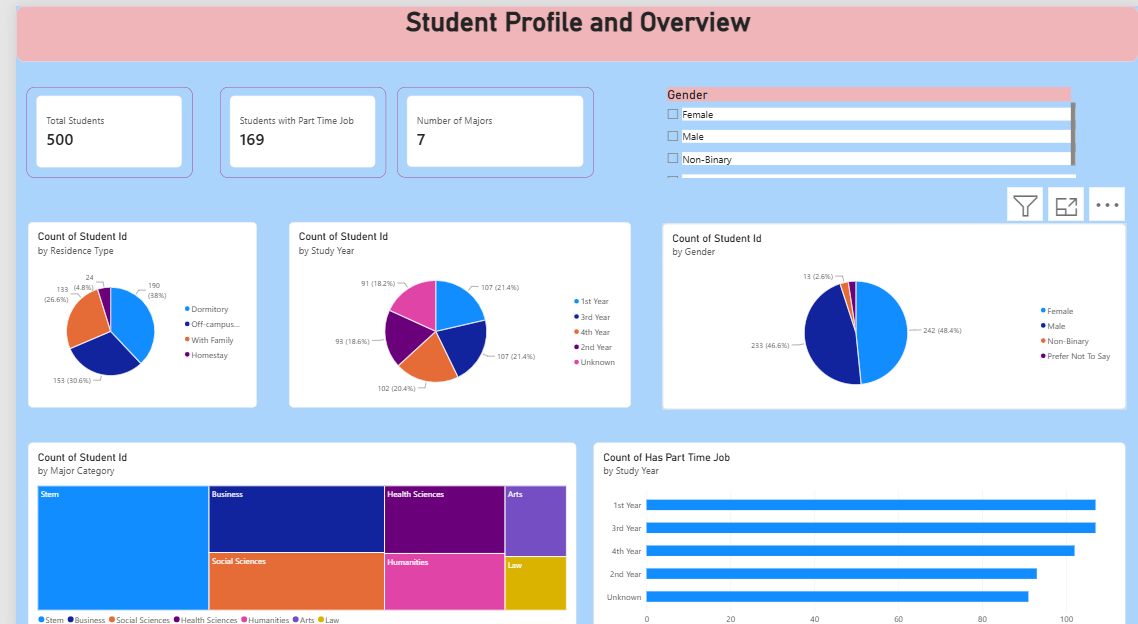

This screenshot's page, from the dashboard's own definition file:
{"tool":"powerbi","page":{"name":"Student Overview","canvas":[1920,1080],"ordinal":0},"visuals":[{"type":"textbox","title":"Student Profile and Overview","box":[0,0,1920.7,95.4],"z":0},{"type":"cardVisual","fields":{"Data":["Student Table.Total Students"]},"box":[19.1,138.4,283.9,155.1],"z":1000},{"type":"cardVisual","fields":{"Data":["Student Table.students with part time job"]},"box":[348.5,139.4,283.9,155.1],"z":2000},{"type":"cardVisual","fields":{"Data":["Student Table.Male Students"]},"box":[651.9,138.5,336.4,154.5],"z":3000},{"type":"treemap","fields":{"Group":["Student Table.Major Category"],"Values":["CountNonNull(Student Table.Student Id)"]},"box":[21.5,746.8,937.7,334],"z":4000},{"type":"pieChart","fields":{"Category":["Student Table.Residence Type"],"Y":["CountNonNull(Student Table.Student Id)"]},"box":[21.5,369.8,391.3,317.3],"z":5000},{"type":"pieChart","fields":{"Category":["Student Table.Study Year"],"Y":["CountNonNull(Student Table.Student Id)"]},"box":[467.6,369.8,584.5,317.3],"z":6000},{"type":"barChart","fields":{"Category":["Student Table.Study Year"],"Y":["CountNonNull(Student Table.Has Part Time Job)"]},"box":[987.8,746.8,909,334],"z":7000},{"type":"slicer","fields":{"Values":["Student Table.Gender"]},"box":[1105.1,138.5,706.1,154.5],"z":8000},{"type":"pieChart","fields":{"Category":["Student Table.Gender"],"Y":["CountNonNull(Student Table.Student Id)"]},"box":[1104.7,372.2,792.1,317.3],"z":9000}]}

Visuals, with their boxes in screenshot pixels (x1, y1, x2, y2), scaled from the page's 1920x1080 canvas onto the 1138x624 screenshot:
"Student Profile and Overview" textbox: locate(0, 0, 1137, 55)
cardVisual - Student Table.Total Students: locate(11, 80, 180, 170)
cardVisual - Student Table.students with part time job: locate(207, 81, 375, 170)
cardVisual - Student Table.Male Students: locate(386, 80, 586, 169)
treemap - Student Table.Major Category x CountNonNull(Student Table.Student Id): locate(13, 431, 569, 623)
pieChart - Student Table.Residence Type x CountNonNull(Student Table.Student Id): locate(13, 214, 245, 397)
pieChart - Student Table.Study Year x CountNonNull(Student Table.Student Id): locate(277, 214, 624, 397)
barChart - Student Table.Study Year x CountNonNull(Student Table.Has Part Time Job): locate(585, 431, 1124, 623)
slicer - Student Table.Gender: locate(655, 80, 1074, 169)
pieChart - Student Table.Gender x CountNonNull(Student Table.Student Id): locate(655, 215, 1124, 398)
